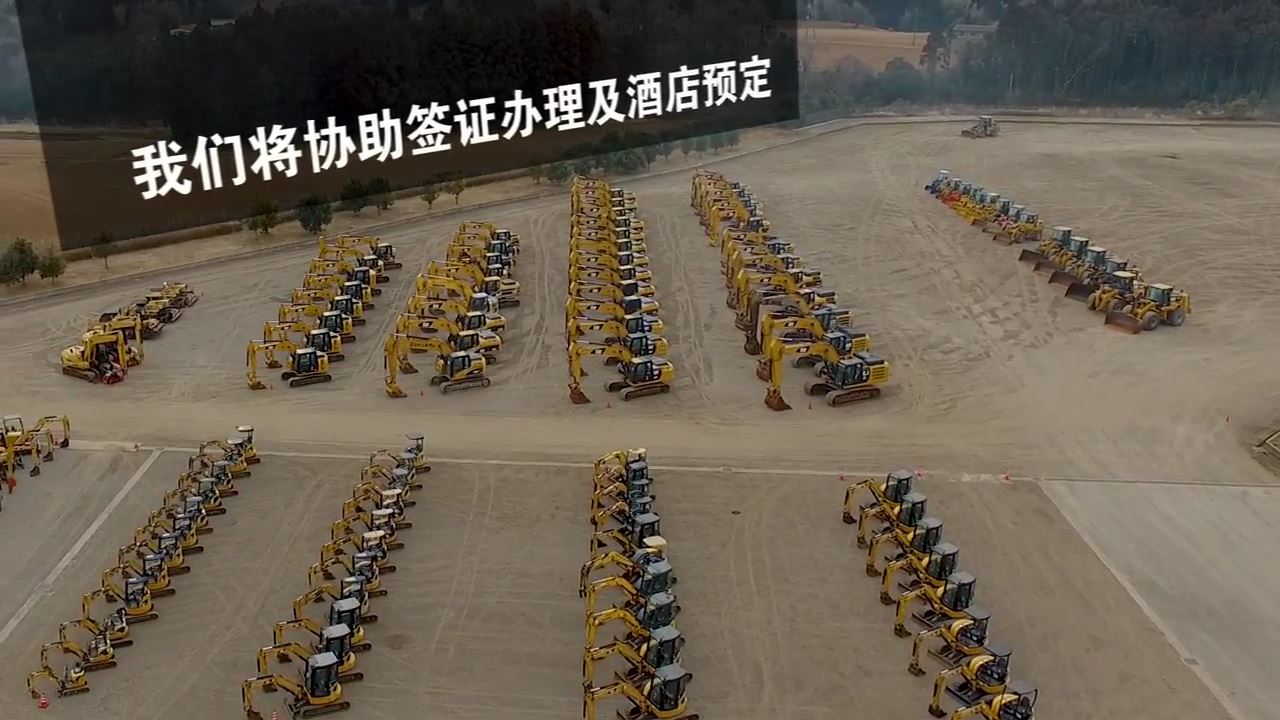con_eq: (747, 339, 895, 416), (562, 335, 679, 415), (224, 647, 351, 717), (382, 330, 496, 399), (573, 665, 709, 720), (570, 621, 685, 680), (835, 459, 918, 527), (273, 609, 374, 663), (899, 605, 984, 669), (567, 313, 665, 367), (401, 313, 507, 361), (764, 314, 874, 360), (879, 541, 961, 602), (853, 519, 937, 577), (887, 570, 970, 628), (26, 656, 110, 713), (747, 291, 852, 336), (57, 325, 129, 388), (370, 431, 452, 483), (234, 344, 329, 388), (256, 643, 368, 680), (415, 270, 506, 315), (410, 297, 507, 338), (927, 653, 1015, 698), (851, 493, 924, 547), (587, 580, 674, 625), (263, 319, 348, 365), (43, 637, 128, 680), (97, 553, 180, 596), (285, 591, 367, 634), (580, 557, 674, 594), (1108, 286, 1183, 331), (84, 311, 147, 364), (7, 405, 88, 446), (563, 284, 669, 315), (1059, 259, 1125, 307), (283, 300, 353, 345), (585, 528, 666, 563), (85, 584, 149, 627), (172, 468, 230, 515), (213, 426, 268, 474), (1016, 223, 1074, 266), (54, 617, 146, 644), (589, 504, 657, 539), (1036, 234, 1094, 275), (1086, 272, 1140, 315), (125, 524, 192, 558), (109, 301, 163, 343), (308, 550, 386, 578), (314, 567, 374, 603), (589, 481, 656, 513), (186, 452, 240, 491), (1053, 247, 1112, 282), (150, 503, 196, 545), (362, 462, 424, 492), (199, 440, 246, 479), (157, 486, 207, 522), (338, 501, 396, 532), (334, 522, 388, 555), (955, 694, 1044, 714), (596, 454, 654, 484), (993, 209, 1040, 245), (351, 484, 414, 508), (134, 297, 179, 326), (963, 114, 1004, 140)
